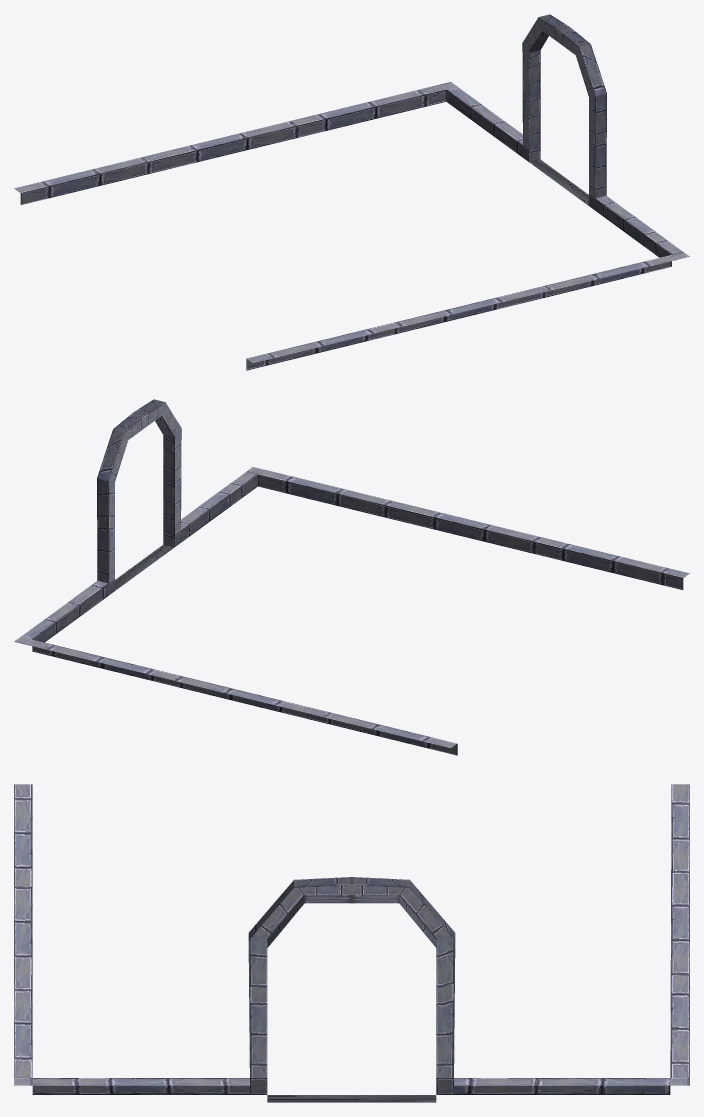
The model's file is Dungeon_plith_deadendentry.FBX.
3 views of the same model, one above another, from view 1: azimuth 30°, elevation 25°; view 2: azimuth 150°, elevation 25°; view 3: azimuth 270°, elevation 25° (orthographic). The views are drawn at different scales.
Visible parts, largest first — view 1: wall_deadendentry; view 2: wall_deadendentry; view 3: wall_deadendentry.
Part boxes in pixels (x1,y1,x2,y2): wall_deadendentry: (14,14,689,370); wall_deadendentry: (14,399,689,755); wall_deadendentry: (14,784,689,1102).
Size of the model in its own units: 950 by 320 by 900.
1 material, 1 textured.
